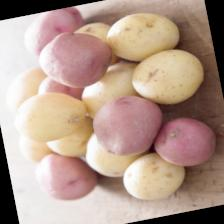potato: (32, 23, 119, 94), (88, 88, 170, 162), (126, 42, 209, 110), (8, 84, 92, 148), (101, 5, 184, 66), (149, 111, 219, 172), (118, 146, 190, 205)
